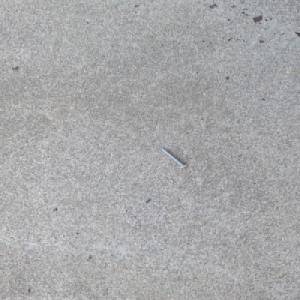Screw: (159, 147, 188, 168)
